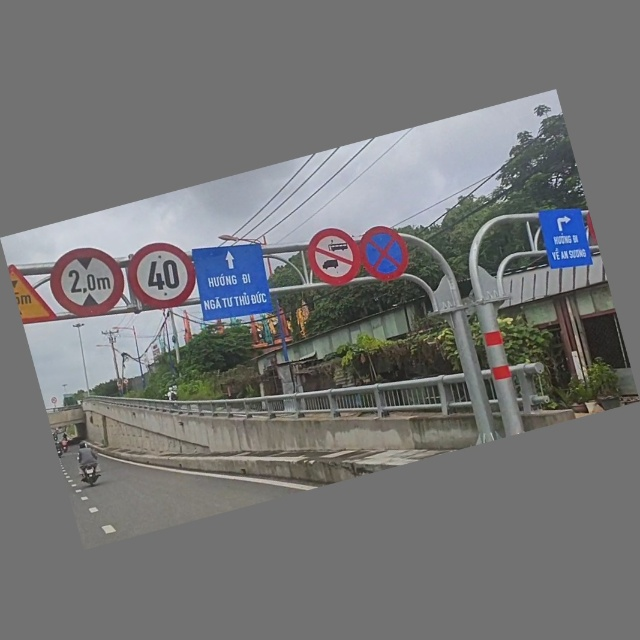P.107: (301, 223, 367, 293)
P.117*: (43, 238, 133, 329)
P.127*40: (123, 236, 202, 318)
P.130: (354, 218, 415, 289)
W.239b*: (8, 258, 58, 330)
